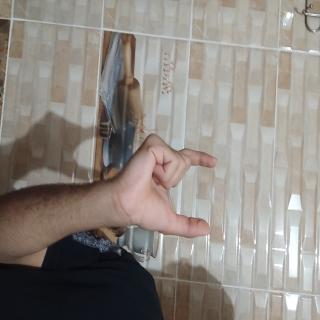NOON: (94, 130, 182, 280)
